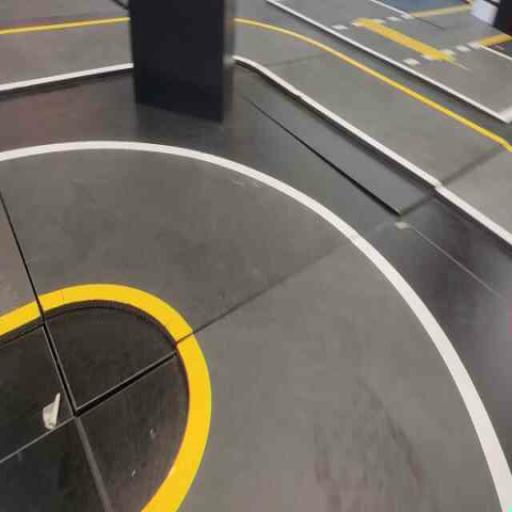left: (75, 219, 511, 511)
